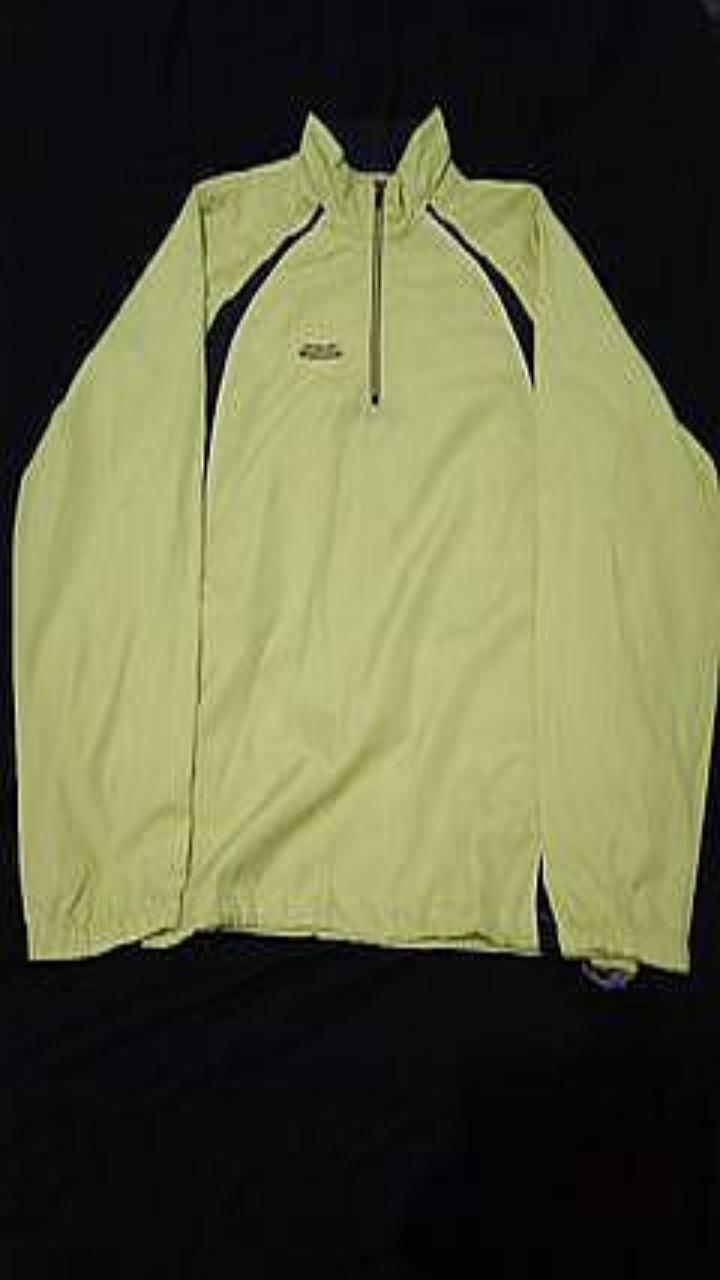Sports_Jacket: (12, 105, 719, 975)
